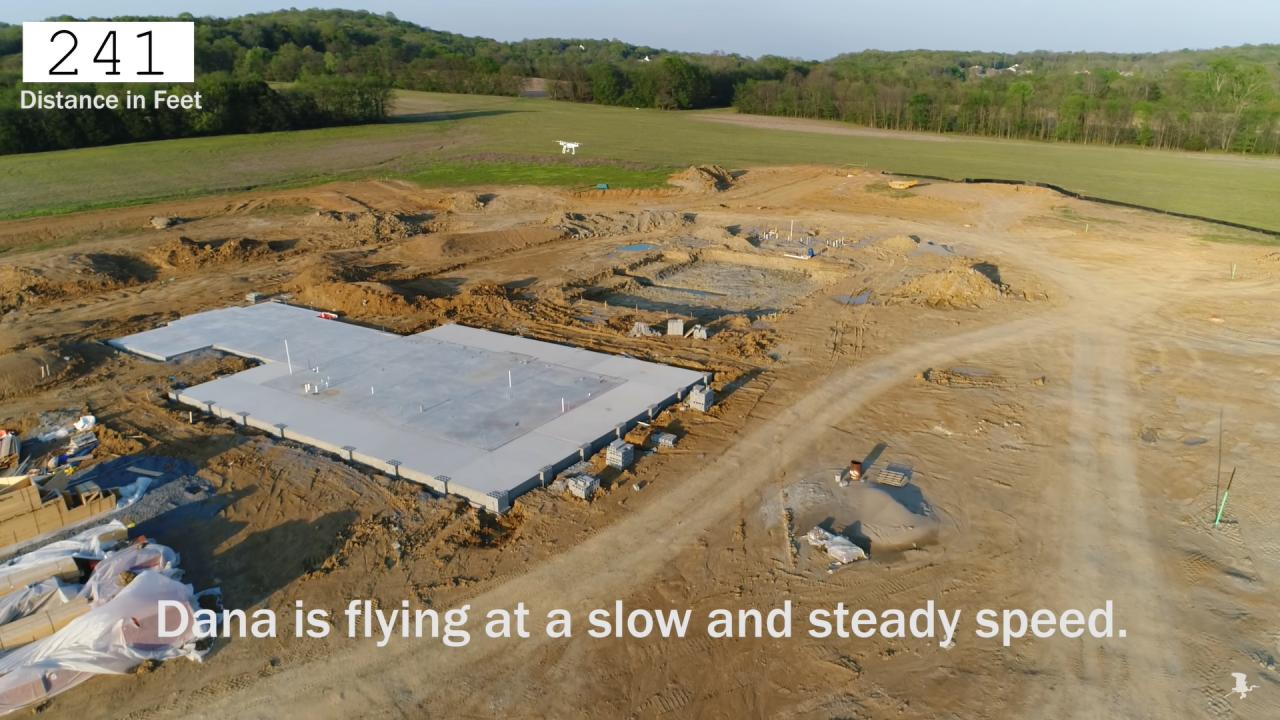Drone: (548, 131, 588, 164)
